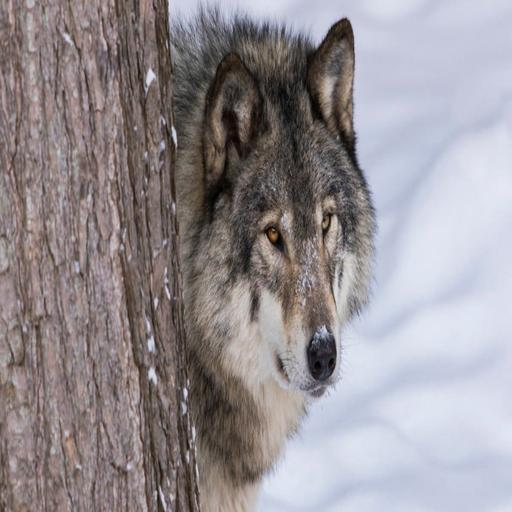Wolf: (37, 0, 380, 510)
